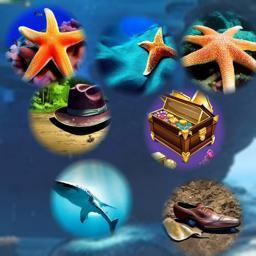not an animal: (53, 82, 113, 137), (166, 198, 244, 240)
treasure: (146, 92, 216, 155)
